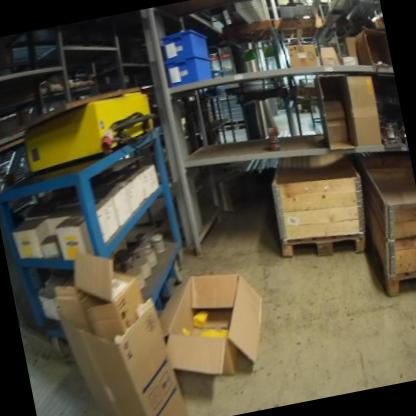pallet: (278, 222, 370, 270), (366, 219, 416, 301)
small_load_carrier: (158, 23, 212, 66), (163, 53, 217, 87)
